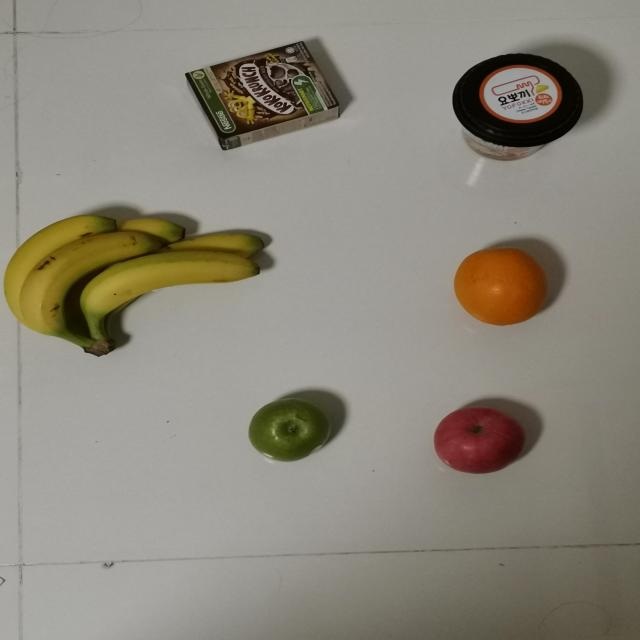Apple: (431, 400, 528, 474), (236, 393, 333, 467)
Banana: (0, 208, 270, 354)
Cerealbox: (163, 28, 356, 150)
Orange: (448, 246, 546, 330)
